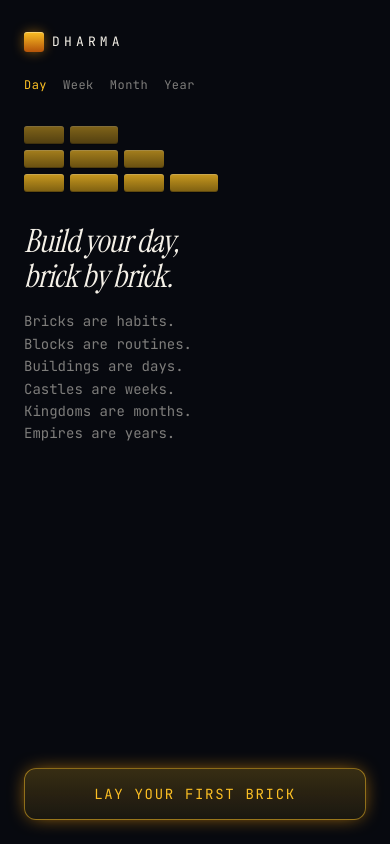
Scenario: Welcome › offers the emailed sign-in link as a secondary option (needs only the email)
Click the button with test id "welcome-begin" at (195, 794), box [24,768,366,820]
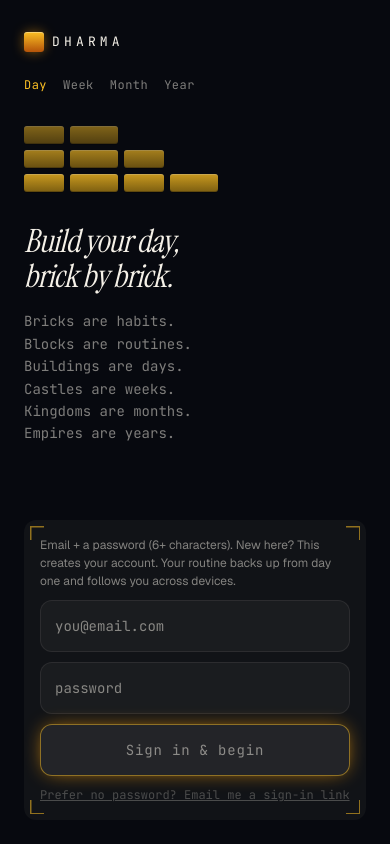
Now the button with test id "welcome-magic-link" shows "Email me a sign-in link", box [40,786,350,804]
Now the button with test id "welcome-magic-link" is disabled, box [40,786,350,804]
Type "me@example.com" into the field with test id "welcome-email" at (195, 626), box [40,600,350,652]
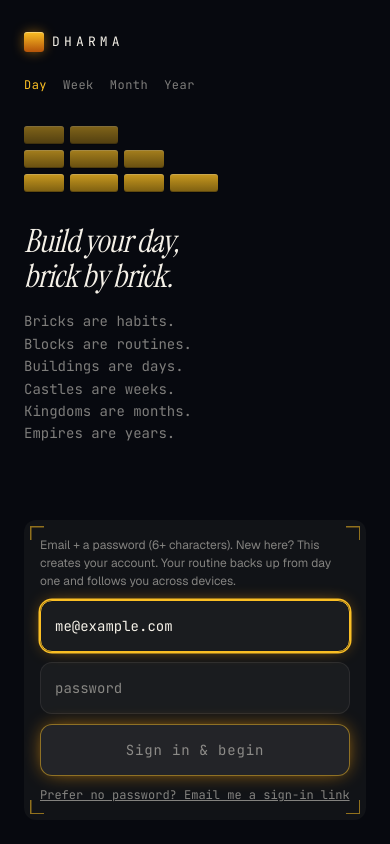
Now the button with test id "welcome-magic-link" is enabled, box [40,786,350,804]
